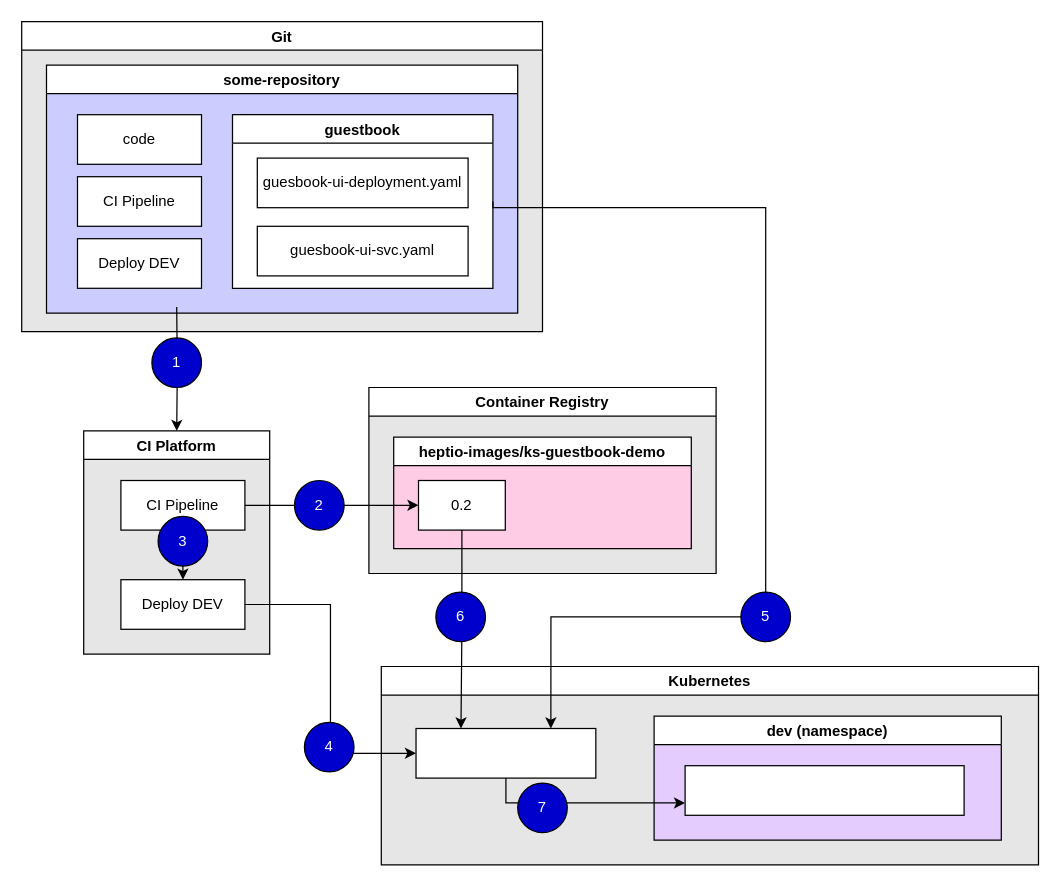
Some shapes in this 1060 by 887 pixel diagram are drawn without their labels. Here are the shapes that lost their labels. From the top down, the centre of each, then its label:
the point at 505,752: argocd (namespace)
the point at 824,789: heptio-images/ks-guestbook-demo:0.2
